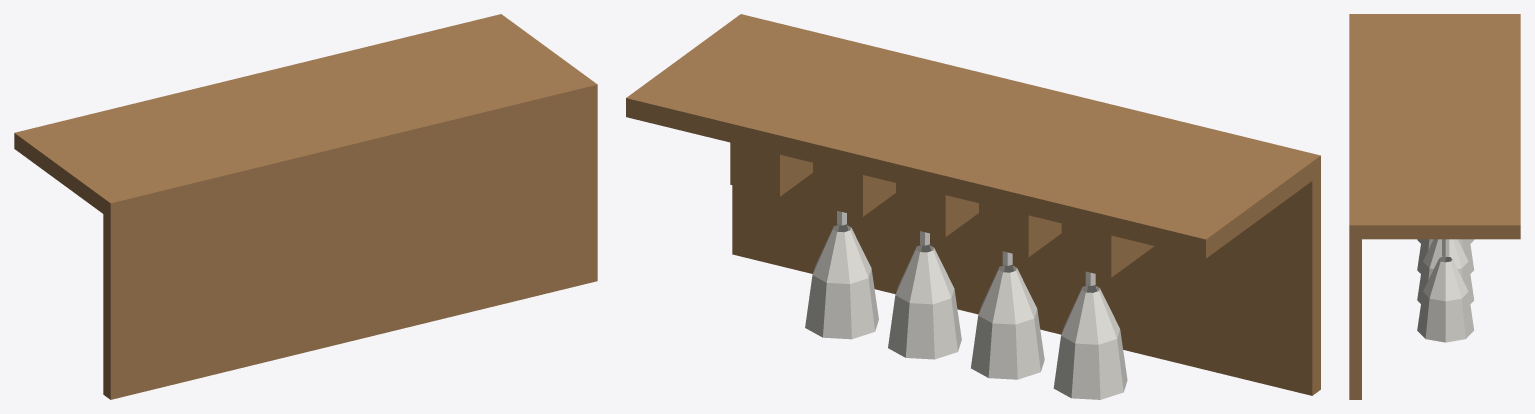
Rendered from FN_Rack_Glass.glb.
3 views of the same model, side by side, from view 1: azimuth 30°, elevation 25°; view 2: azimuth 150°, elevation 25°; view 3: azimuth 270°, elevation 25° (orthographic). The views are drawn at different scales.
Parts seen in each view (by area): view 1: FN_Rack_Glass; view 2: FN_Rack_Glass; view 3: FN_Rack_Glass.
Boxes of the visible parts, left/top/right/bottom form: FN_Rack_Glass: left=14, top=14, right=597, bottom=399; FN_Rack_Glass: left=626, top=14, right=1320, bottom=399; FN_Rack_Glass: left=1349, top=14, right=1520, bottom=399.
Size of the model in its own units: 0.7 by 0.27 by 0.24.
1 material, 1 textured.
